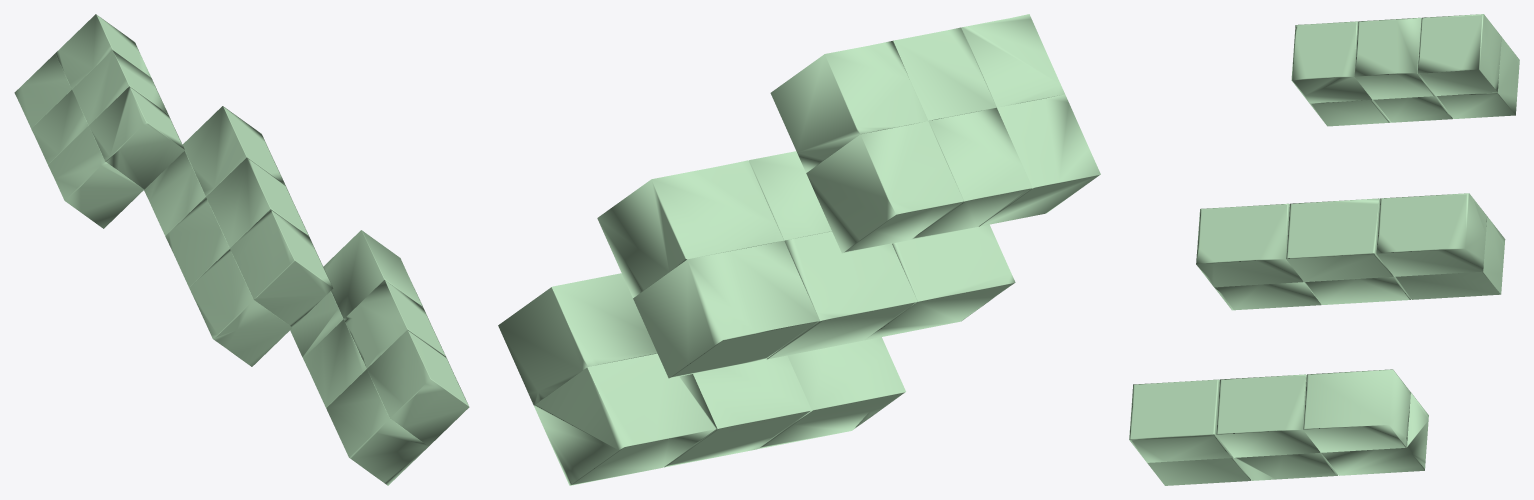
Rendered from VHM_Spleen_Extraction_Sites_2x3.glb.
3 views of the same model, side by side, from view 1: azimuth 30°, elevation 25°; view 2: azimuth 150°, elevation 25°; view 3: azimuth 270°, elevation 25° (orthographic). The views are drawn at different scales.
Visible parts, largest first — view 1: VHM_CC2_1_2x3, VHM_CC3_1_2x3, VHM_CC1_1_2x3, VHM_CC2_4_2x3, VHM_CC3_4_2x3, VHM_CC1_4_2x3, VHM_CC2_2_2x3, VHM_CC2_3_2x3, VHM_CC3_2_2x3, VHM_CC3_3_2x3, VHM_CC1_3_2x3, VHM_CC1_2_2x3 (+6 smaller); view 2: VHM_CC2_6_2x3, VHM_CC3_6_2x3, VHM_CC2_3_2x3, VHM_CC1_6_2x3, VHM_CC3_3_2x3, VHM_CC1_3_2x3, VHM_CC2_5_2x3, VHM_CC2_4_2x3, VHM_CC3_5_2x3, VHM_CC3_4_2x3, VHM_CC1_5_2x3, VHM_CC1_4_2x3 (+3 smaller); view 3: VHM_CC2_3_2x3, VHM_CC3_3_2x3, VHM_CC2_2_2x3, VHM_CC2_1_2x3, VHM_CC3_2_2x3, VHM_CC3_1_2x3, VHM_CC1_3_2x3, VHM_CC1_2_2x3, VHM_CC1_1_2x3, VHM_CC2_6_2x3, VHM_CC3_6_2x3, VHM_CC1_6_2x3 (+6 smaller).
Boxes of the visible parts, left/top/right/bottom form: VHM_CC2_1_2x3: left=230, top=209, right=333, bottom=327; VHM_CC3_1_2x3: left=367, top=330, right=469, bottom=446; VHM_CC1_1_2x3: left=89, top=86, right=184, bottom=189; VHM_CC2_4_2x3: left=189, top=249, right=292, bottom=366; VHM_CC3_4_2x3: left=326, top=369, right=428, bottom=485; VHM_CC1_4_2x3: left=48, top=126, right=144, bottom=228; VHM_CC2_2_2x3: left=206, top=157, right=309, bottom=247; VHM_CC2_3_2x3: left=182, top=106, right=285, bottom=196; VHM_CC3_2_2x3: left=344, top=280, right=445, bottom=368; VHM_CC3_3_2x3: left=323, top=230, right=423, bottom=318; VHM_CC1_3_2x3: left=55, top=14, right=151, bottom=88; VHM_CC1_2_2x3: left=72, top=50, right=167, bottom=124; VHM_CC2_6_2x3: left=633, top=240, right=819, bottom=378; VHM_CC3_6_2x3: left=534, top=353, right=717, bottom=485; VHM_CC2_3_2x3: left=597, top=160, right=783, bottom=297; VHM_CC1_6_2x3: left=806, top=121, right=963, bottom=253; VHM_CC3_3_2x3: left=498, top=273, right=657, bottom=405; VHM_CC1_3_2x3: left=770, top=41, right=927, bottom=172; VHM_CC2_5_2x3: left=767, top=231, right=917, bottom=359; VHM_CC2_4_2x3: left=864, top=224, right=1015, bottom=340; VHM_CC3_5_2x3: left=664, top=355, right=811, bottom=467; VHM_CC3_4_2x3: left=758, top=337, right=905, bottom=448; VHM_CC1_5_2x3: left=910, top=107, right=1032, bottom=239; VHM_CC1_4_2x3: left=979, top=94, right=1100, bottom=226; VHM_CC2_3_2x3: left=1376, top=193, right=1487, bottom=276; VHM_CC3_3_2x3: left=1303, top=369, right=1410, bottom=452; VHM_CC2_2_2x3: left=1286, top=198, right=1393, bottom=281; VHM_CC2_1_2x3: left=1196, top=203, right=1303, bottom=287; VHM_CC3_2_2x3: left=1216, top=374, right=1319, bottom=457; VHM_CC3_1_2x3: left=1129, top=379, right=1232, bottom=462; VHM_CC1_3_2x3: left=1417, top=14, right=1501, bottom=95; VHM_CC1_2_2x3: left=1354, top=17, right=1434, bottom=99; VHM_CC1_1_2x3: left=1291, top=21, right=1371, bottom=103; VHM_CC2_6_2x3: left=1394, top=216, right=1505, bottom=299; VHM_CC3_6_2x3: left=1321, top=392, right=1428, bottom=475; VHM_CC1_6_2x3: left=1435, top=37, right=1519, bottom=118.
Bounding box in the file's own units: 0.0797 × 0.082 × 0.072.
